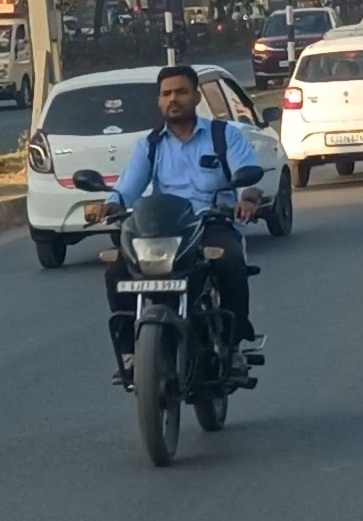Helmet: (148, 60, 207, 127)
NoHelmet: (65, 58, 285, 474)
